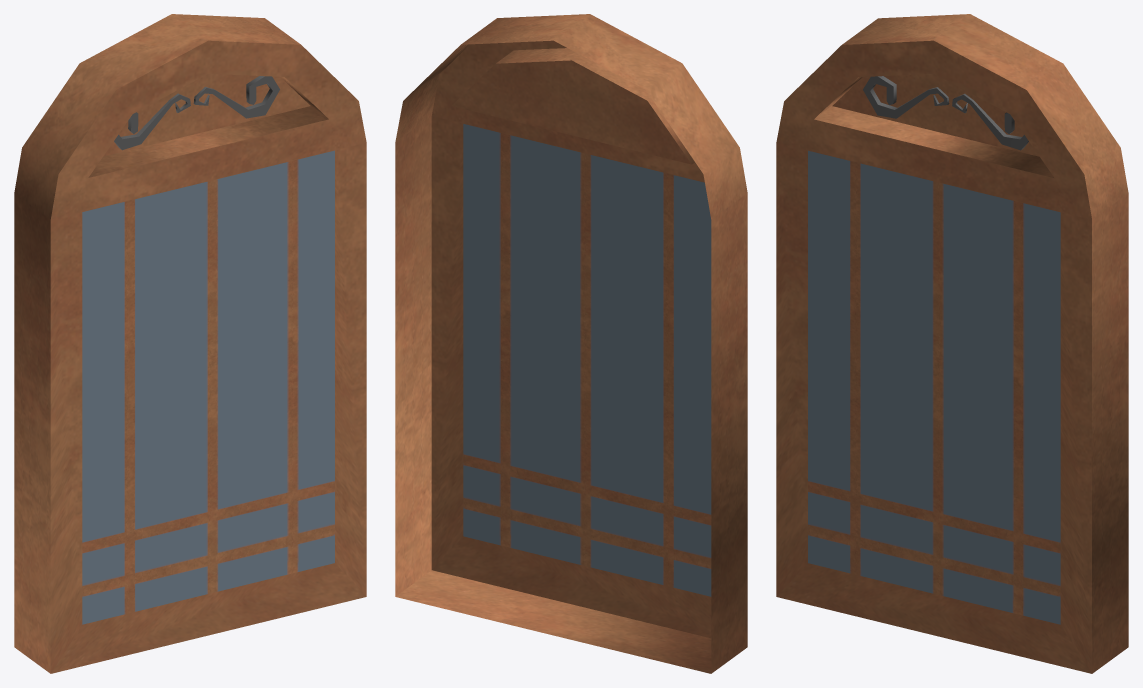
Rendered from Window3LOD.fbx.
The picture shows the model from 3 angles, left to right: view 1: azimuth 30°, elevation 25°; view 2: azimuth 150°, elevation 25°; view 3: azimuth 330°, elevation 25°; orthographic projection.
Visible parts, largest first — view 1: Window3_LOD1; view 2: Window3_LOD1; view 3: Window3_LOD1.
Part boxes in pixels (x1,y1,x2,y2): Window3_LOD1: [14, 14, 366, 673]; Window3_LOD1: [395, 14, 747, 673]; Window3_LOD1: [776, 14, 1128, 673].
Bounding box in the file's own units: 100 × 180 × 20.
